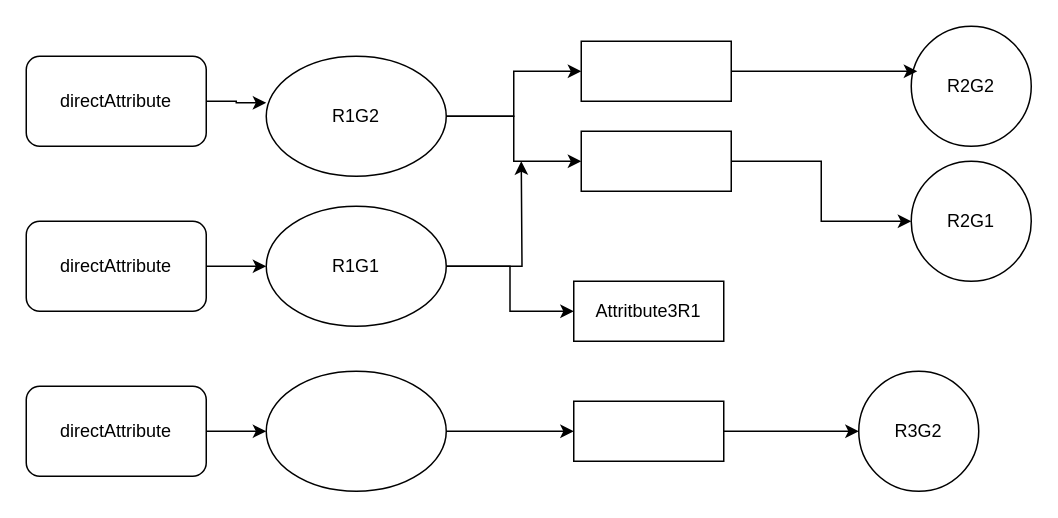
Some shapes in this 1058 by 518 pixel diagram are drawn without their labels. The shapes that lost their labels are listed below. From the top down, each one's centre as x and y in pixels, then its label:
At (x=655, y=70): "Attritbute1R1".
At (x=655, y=160): "Attritbute2R1".
At (x=355, y=430): "R3G1".
At (x=648, y=430): "Attritbute1R3".
